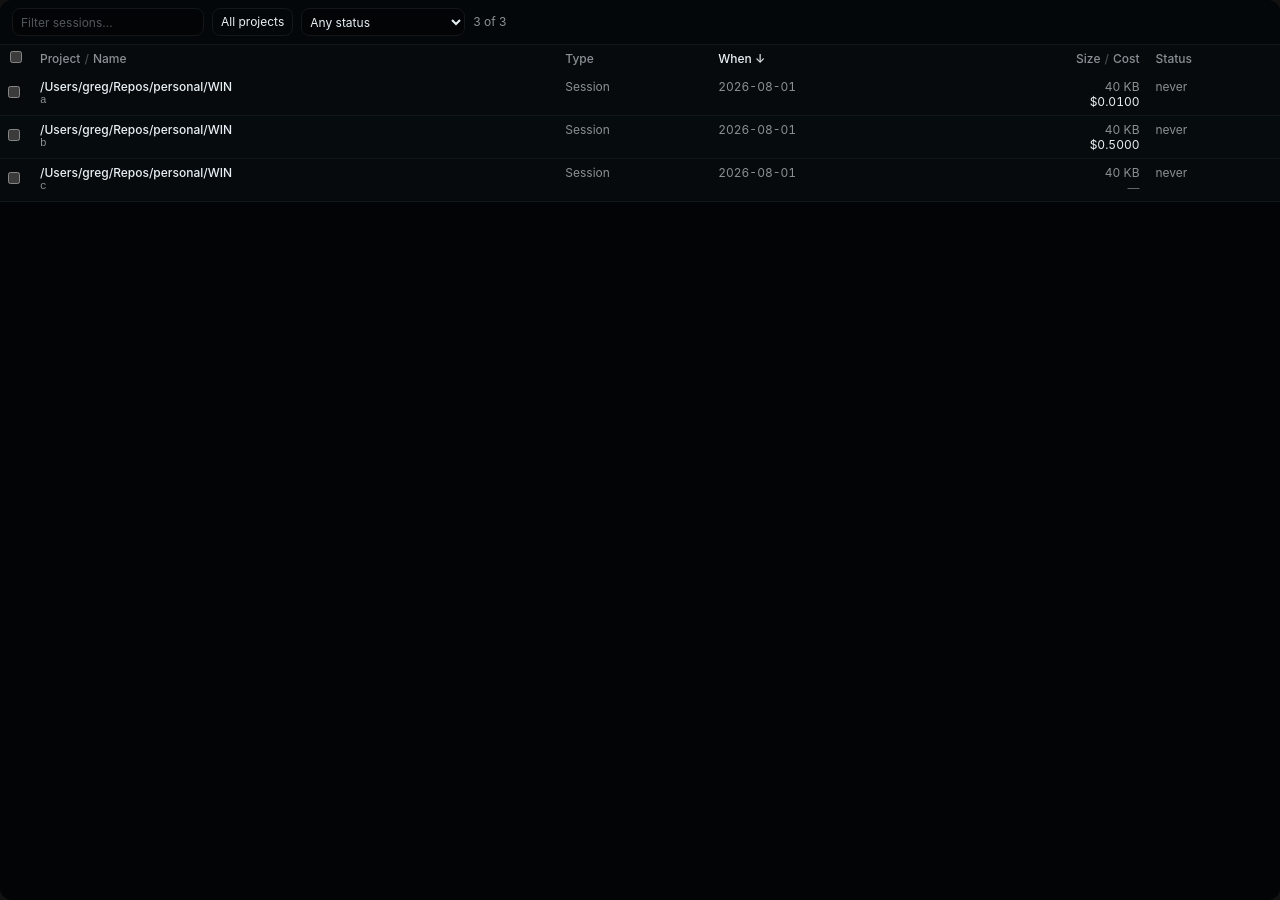
BrainSourcesTable — cost › sorts by cost, with never-indexed rows treated as zero
Click the button "Cost". click: {"x": 1126, "y": 59}
box: [1113,51,1140,67]
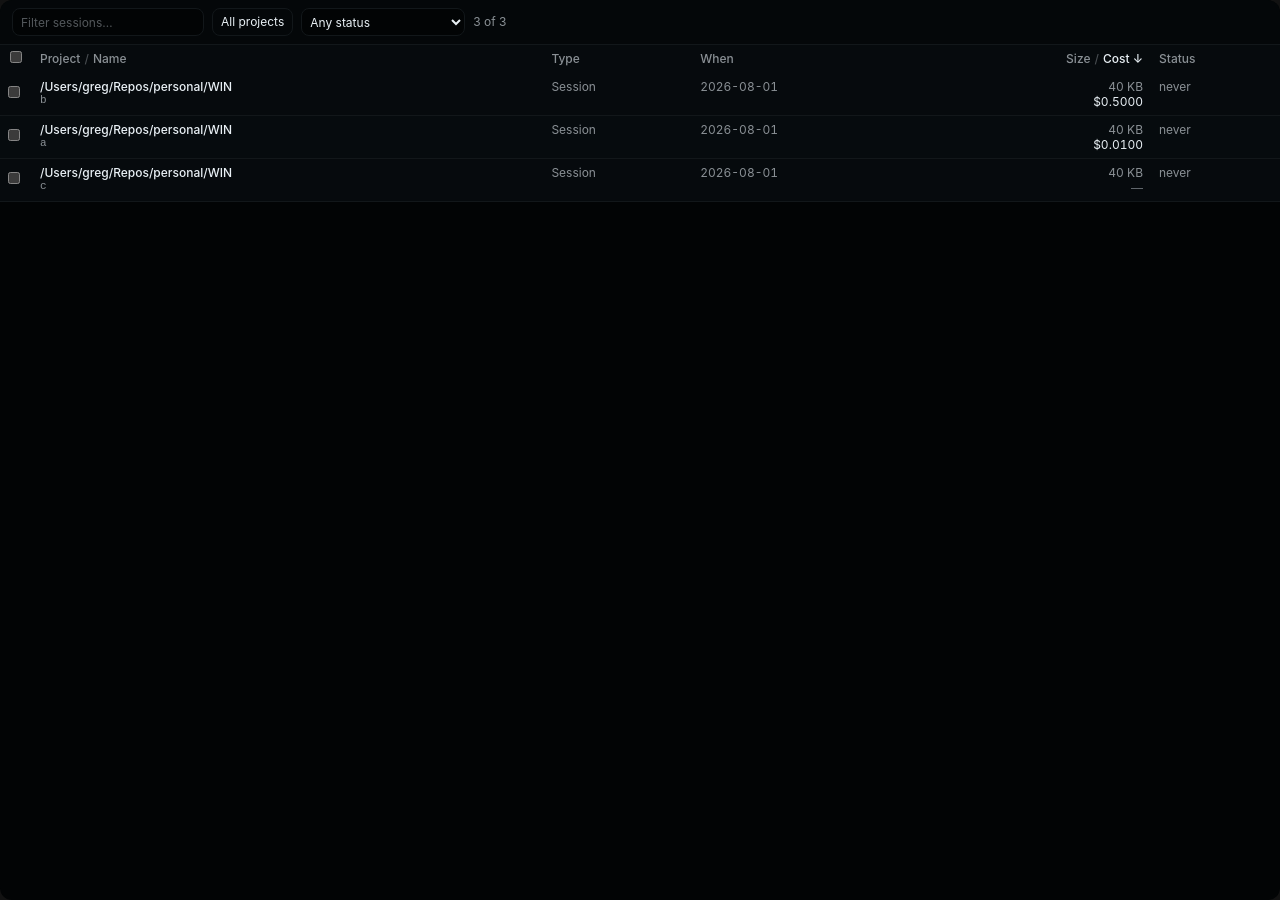
Check: the elements with test id "source-name" read "b", "a", "c", in this order, box [40,94,47,108]; [40,137,47,151]; [40,180,47,194]
